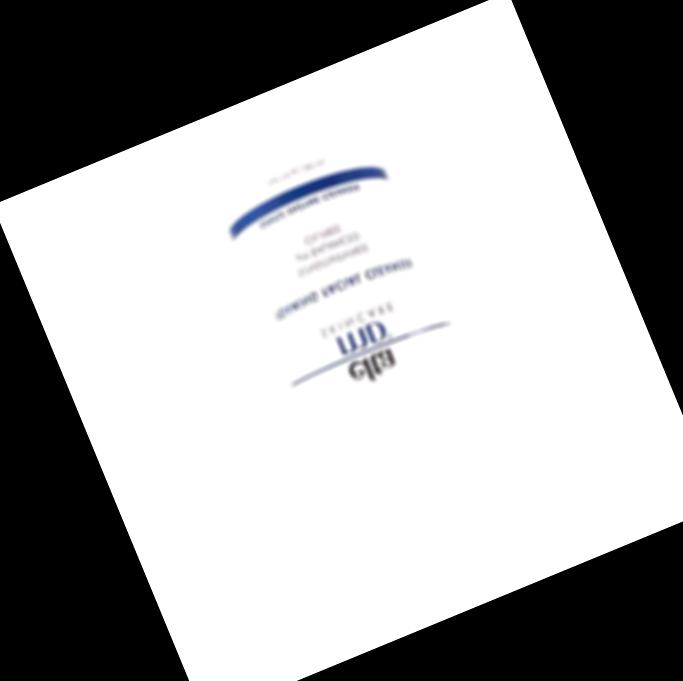cosmetic: (206, 102, 537, 593)
